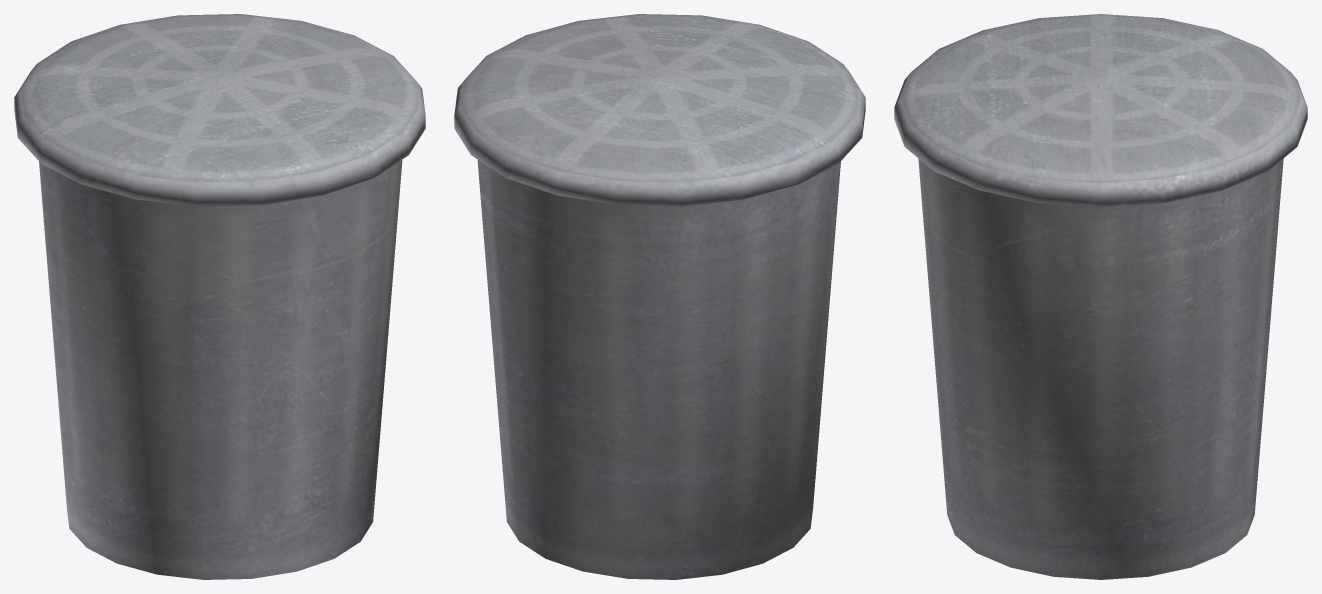
The model's file is c2_bin_lod1.fbx.
3 renders of one model, left to right at view 1: azimuth 30°, elevation 25°; view 2: azimuth 150°, elevation 25°; view 3: azimuth 270°, elevation 25°, orthographic.
Parts seen in each view (by area): view 1: Mesh; view 2: Mesh; view 3: Mesh.
Part boxes in pixels (bbox=[...]): Mesh: bbox=[14, 14, 425, 579]; Mesh: bbox=[454, 14, 865, 579]; Mesh: bbox=[894, 14, 1307, 579].
Size of the model in its own units: 45.67 by 53.4 by 45.67.
